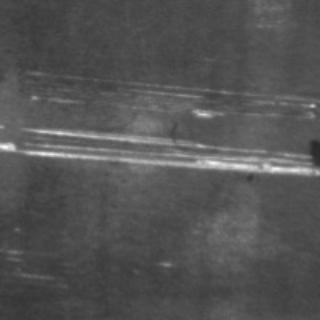scratches: (0, 124, 316, 176), (27, 66, 313, 114)
